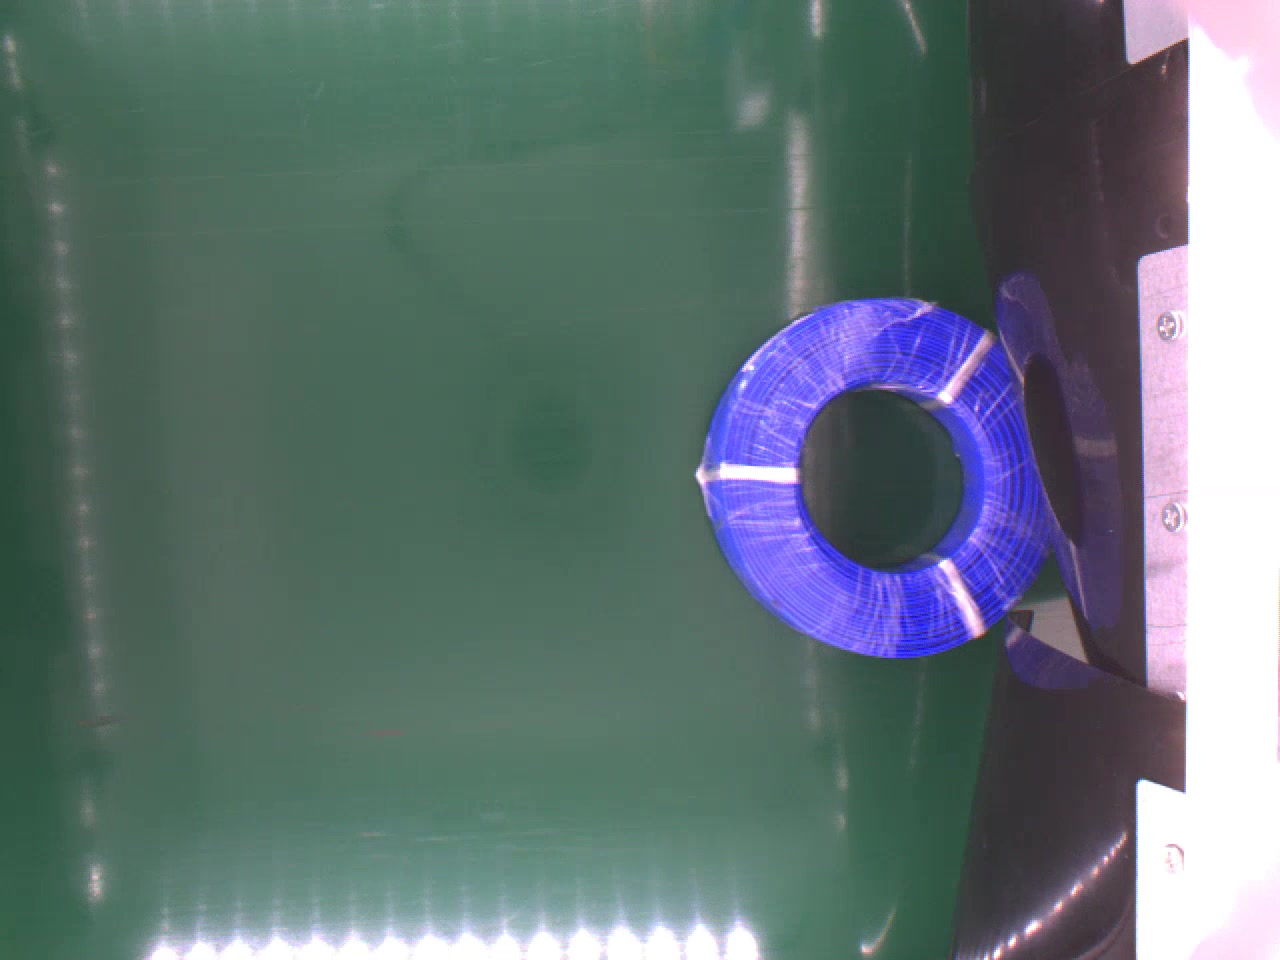blue: (700, 287, 1049, 659)
